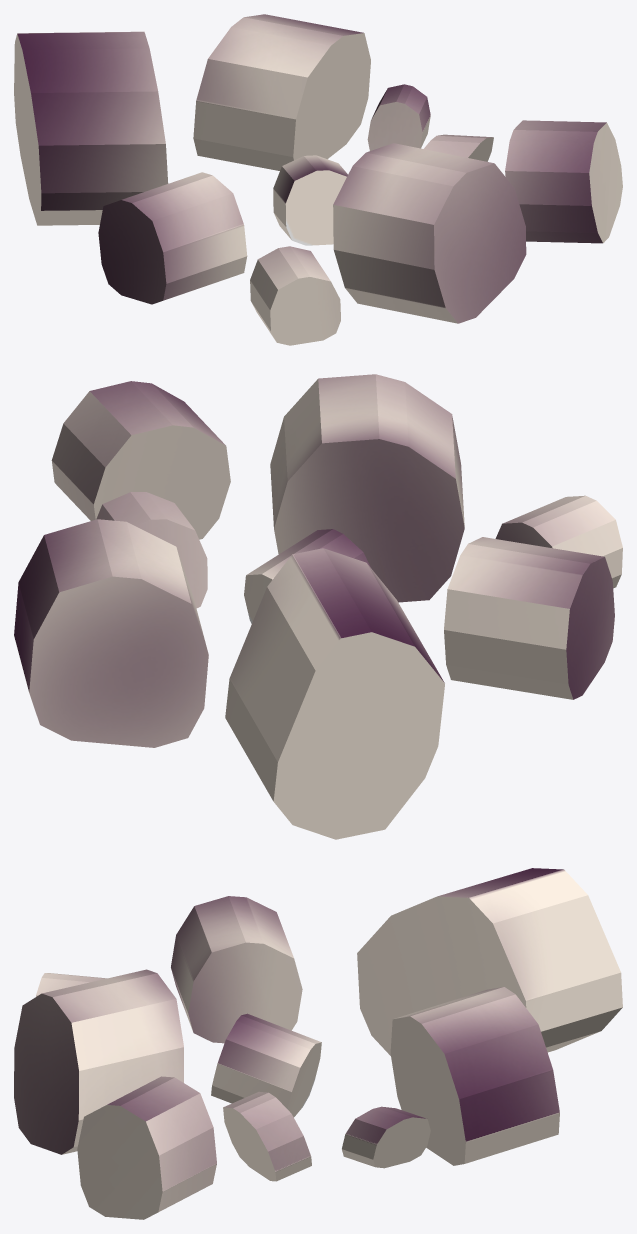
The model's file is cebolla picado.fbx.
The picture shows the model from 3 angles, top to bottom: view 1: azimuth 30°, elevation 25°; view 2: azimuth 150°, elevation 25°; view 3: azimuth 270°, elevation 25°; orthographic projection. The views are drawn at different scales.
Visible parts, largest first — view 1: Cube.005; view 2: Cube.005; view 3: Cube.005.
Boxes of the visible parts, left/top/right/bottom form: Cube.005: left=14, top=14, right=622, bottom=345; Cube.005: left=14, top=374, right=622, bottom=839; Cube.005: left=14, top=868, right=622, bottom=1219.
Size of the model in its own units: 71.31 by 26.95 by 75.32.
1 material, 1 textured.
